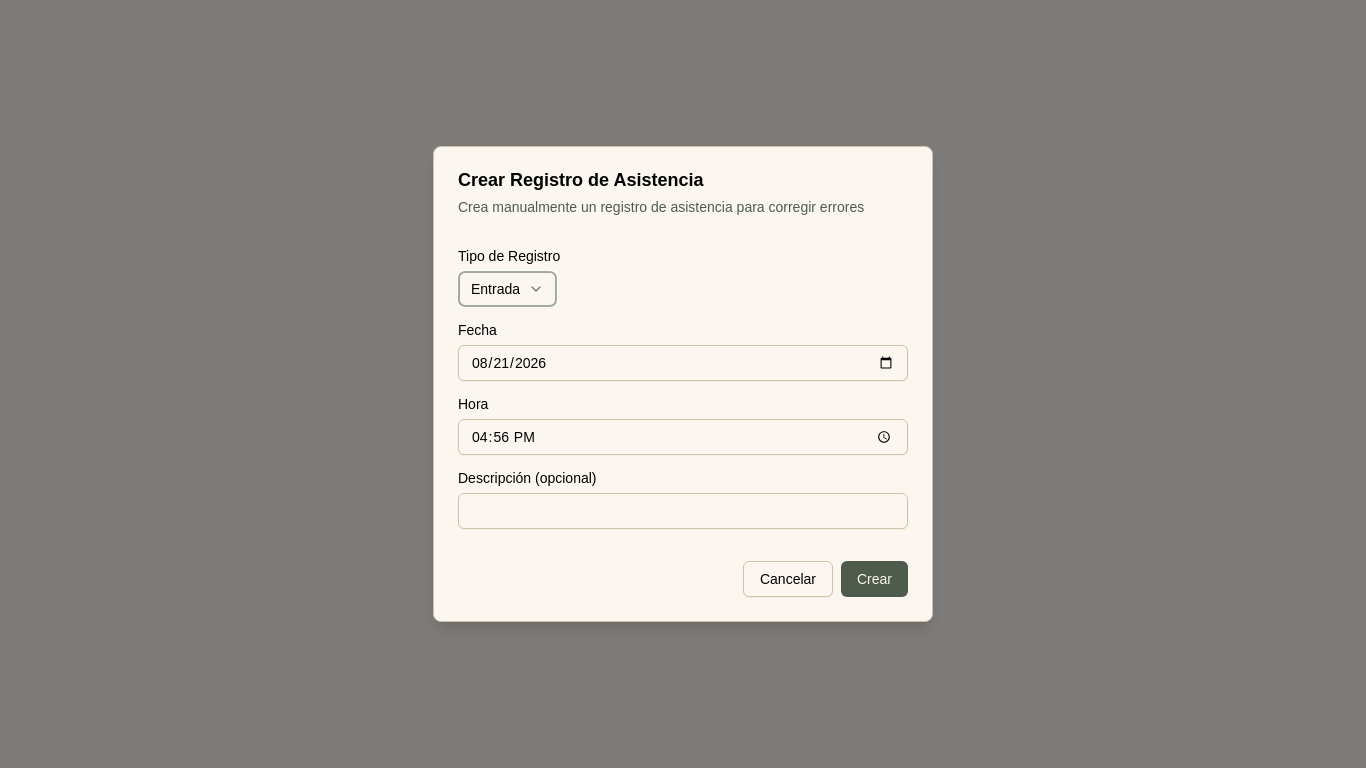
AttendanceEntryModal › Dirty state and close confirmation › closes the modal when confirming the close
Replace the text in the time field labelled "Hora" with "15:00" at (683, 437), box [458, 419, 908, 455]
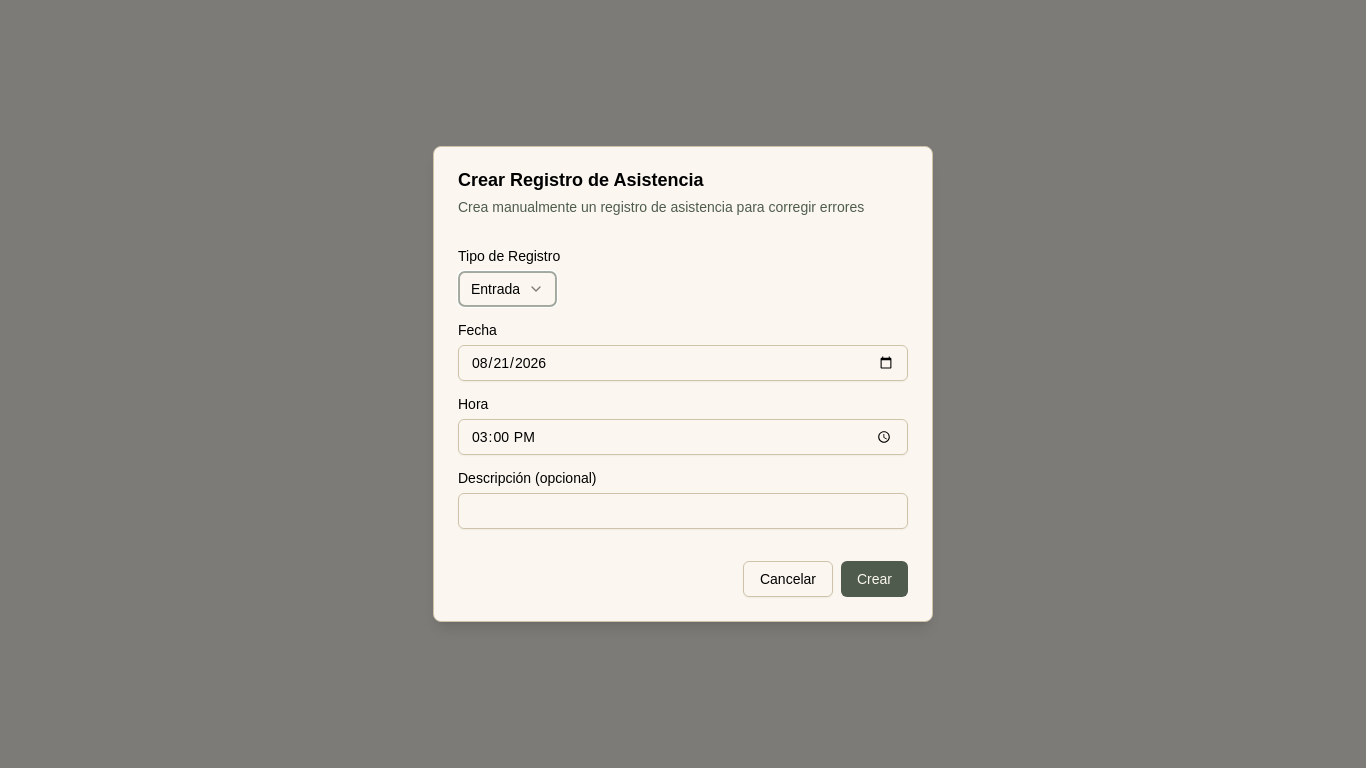
Click the button "Cancelar" at (788, 579), box [743, 561, 833, 597]
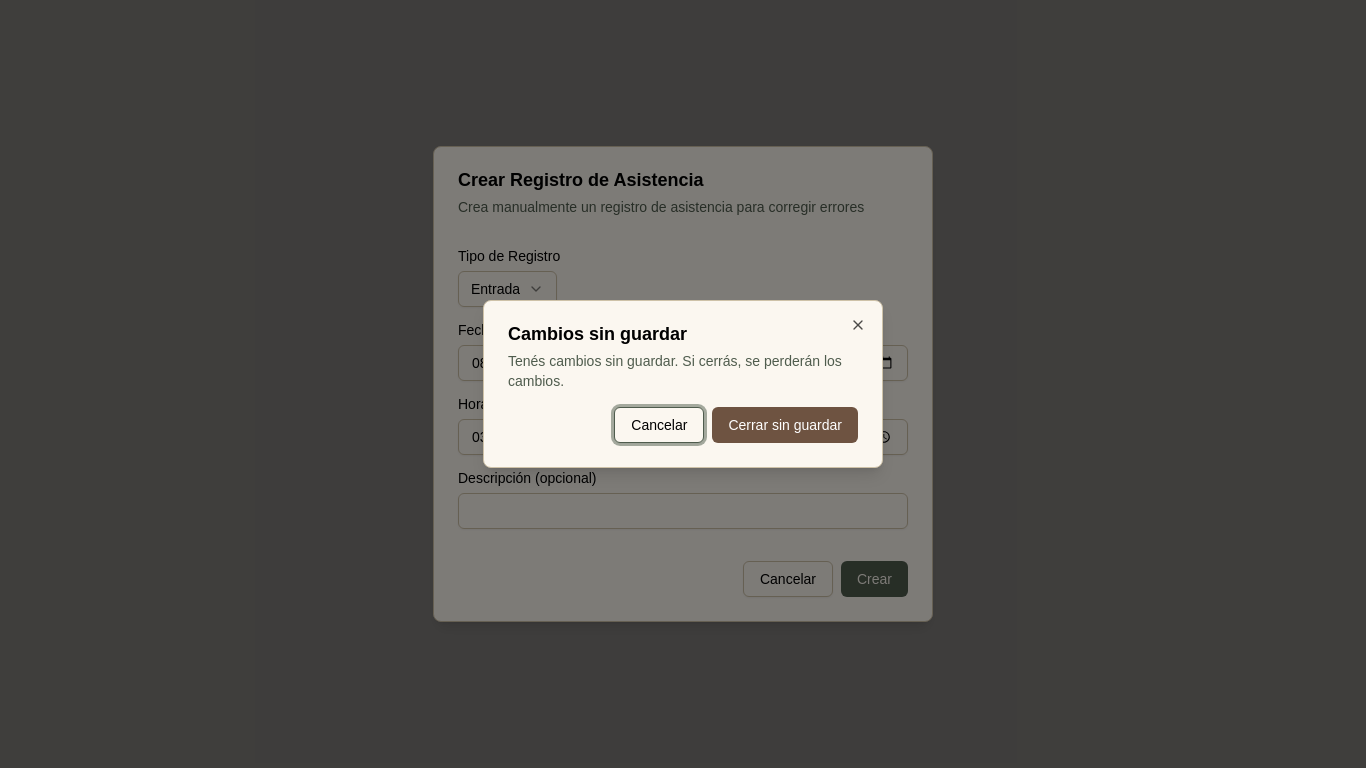
Expected: the heading "Cambios sin guardar" is shown, [508, 324, 687, 344]
Click the button "Cancelar" at (659, 425), box [614, 407, 704, 443]
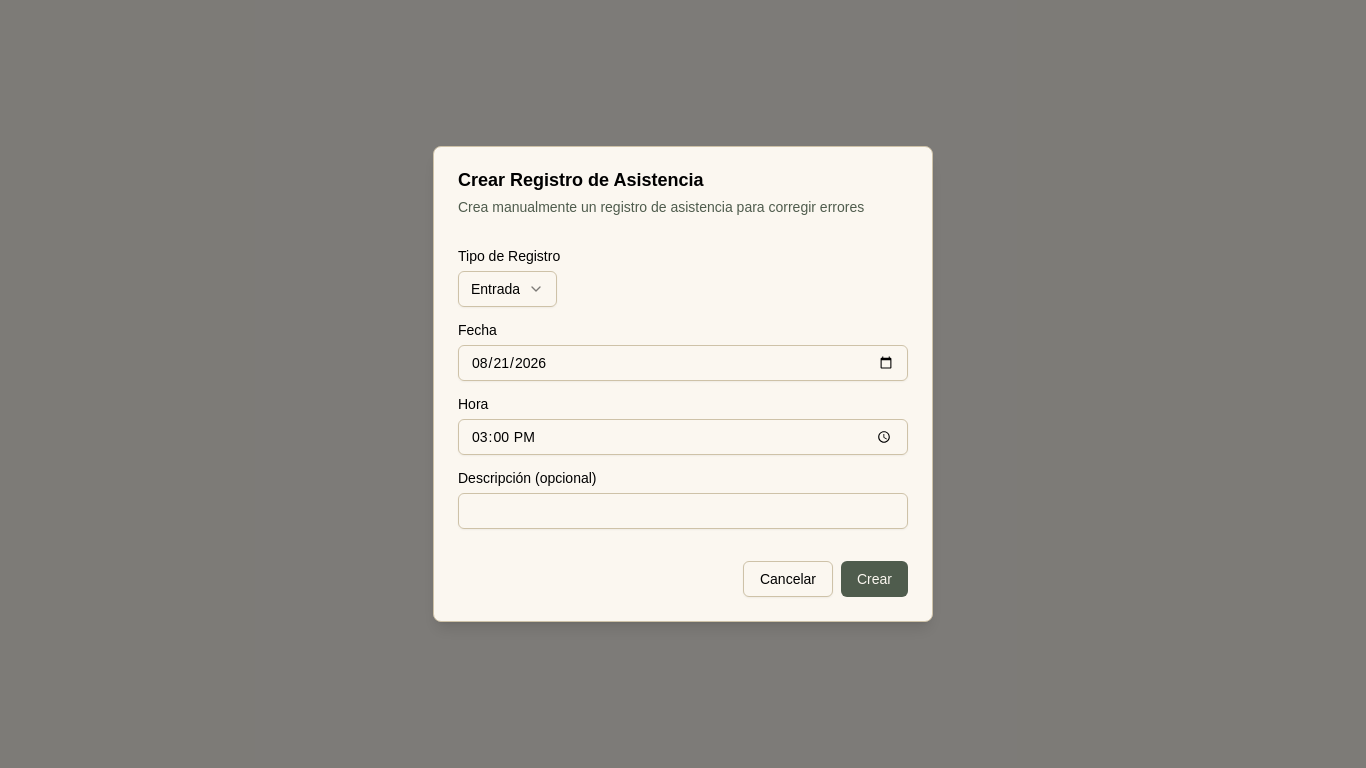
Expected: the heading "Cambios sin guardar" is gone
